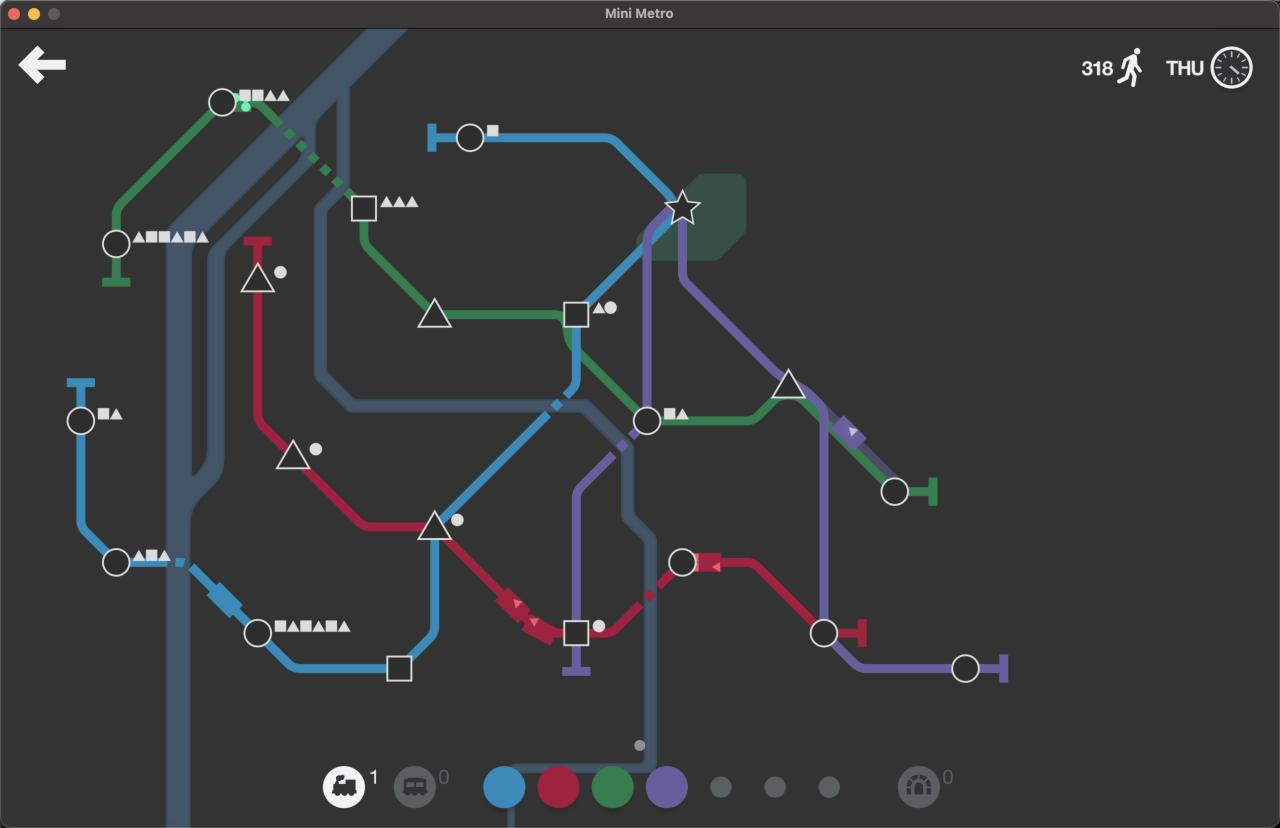CIRCLE: (101, 228, 131, 259), (207, 87, 237, 118), (632, 405, 662, 436), (66, 406, 96, 436), (880, 477, 910, 507), (102, 547, 131, 577), (243, 618, 272, 648), (810, 618, 839, 648), (667, 547, 696, 577), (951, 653, 980, 683), (456, 122, 484, 153)
SQUARE: (562, 618, 590, 647), (350, 195, 378, 223), (562, 301, 590, 329), (385, 654, 413, 682)
STAR: (662, 188, 703, 226)
TRIANGLE: (416, 508, 454, 542), (416, 297, 453, 330), (275, 439, 312, 471), (240, 262, 277, 293), (770, 368, 805, 400)
